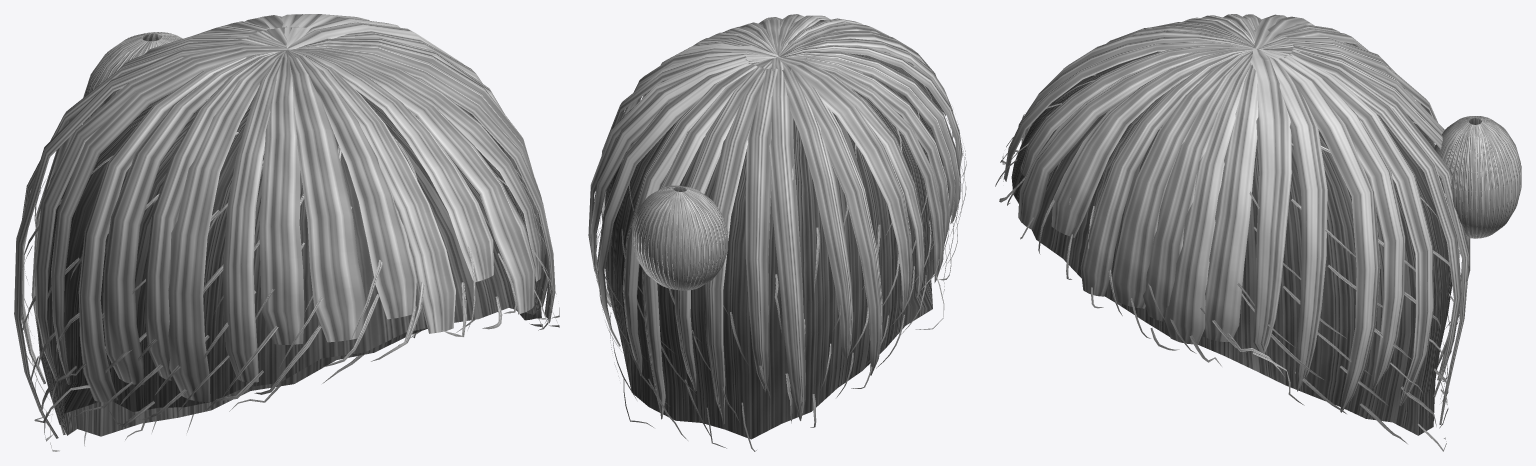
Rendered from unified_m_bun.glb.
3 views of the same model, side by side, from view 1: azimuth 30°, elevation 25°; view 2: azimuth 150°, elevation 25°; view 3: azimuth 270°, elevation 25° (orthographic). The views are drawn at different scales.
Parts seen in each view (by area): view 1: Hair_directional_locks, Hair_scalp, Hair_layered_strands, Hair_coiled_bun; view 2: Hair_directional_locks, Hair_scalp, Hair_coiled_bun, Hair_layered_strands; view 3: Hair_directional_locks, Hair_scalp, Hair_coiled_bun, Hair_layered_strands.
Part boxes in pixels (left/top/right/bottom): Hair_directional_locks: left=14, top=14, right=555, bottom=438; Hair_scalp: left=36, top=90, right=541, bottom=436; Hair_layered_strands: left=22, top=97, right=559, bottom=451; Hair_coiled_bun: left=82, top=32, right=182, bottom=123; Hair_directional_locks: left=588, top=14, right=962, bottom=424; Hair_scalp: left=604, top=52, right=949, bottom=439; Hair_coiled_bun: left=632, top=185, right=728, bottom=290; Hair_layered_strands: left=594, top=23, right=966, bottom=451; Hair_directional_locks: left=1004, top=14, right=1470, bottom=424; Hair_scalp: left=1011, top=51, right=1452, bottom=435; Hair_coiled_bun: left=1434, top=116, right=1521, bottom=238; Hair_layered_strands: left=995, top=74, right=1460, bottom=451.
Bounding box in the file's own units: 0.1017 × 0.1008 × 0.1259.
Materials: 2 (2 with a texture image).
